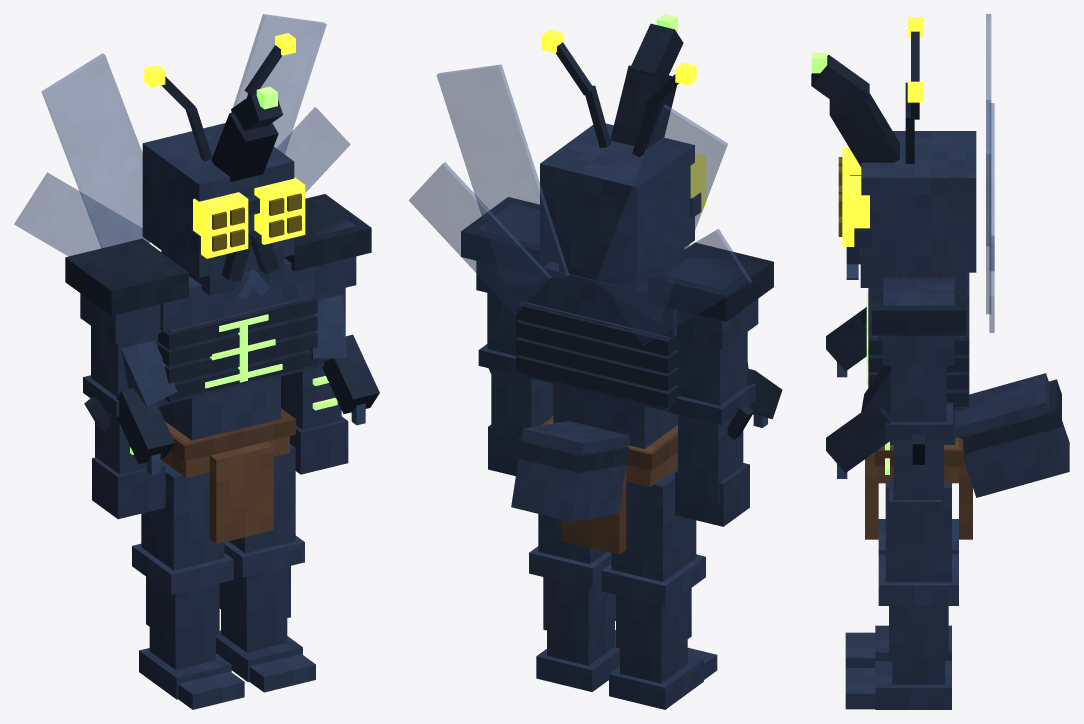
File: insectoid_base_v3_evo2.glb
The picture shows the model from 3 angles, left to right: view 1: azimuth 30°, elevation 25°; view 2: azimuth 150°, elevation 25°; view 3: azimuth 270°, elevation 25°; orthographic projection. The views are drawn at different scales.
Parts seen in each view (by area): view 1: Torso, Head, LegR, ArmR, LegL, ArmL; view 2: Torso, Head, ArmR, LegR, ArmL, LegL; view 3: Head, Torso, ArmL, LegL, LegR.
Boxes of the visible parts, <box> form: Torso: <box>14,14,379,543</box>; Head: <box>142,33,305,299</box>; LegR: <box>132,460,244,709</box>; ArmR: <box>65,238,188,519</box>; LegL: <box>216,444,315,692</box>; ArmL: <box>281,194,371,474</box>; Torso: <box>409,64,782,554</box>; Head: <box>540,14,706,289</box>; ArmR: <box>648,242,773,526</box>; LegR: <box>601,467,717,709</box>; ArmL: <box>461,197,553,476</box>; LegL: <box>529,514,619,691</box>; Head: <box>811,17,976,287</box>; Torso: <box>826,14,1069,539</box>; ArmL: <box>872,272,965,544</box>; LegL: <box>845,483,958,709</box>; LegR: <box>845,519,958,667</box>.
Size of the model in its own units: 1.12 by 1.98 by 0.7413.
25 materials, 25 textured.
